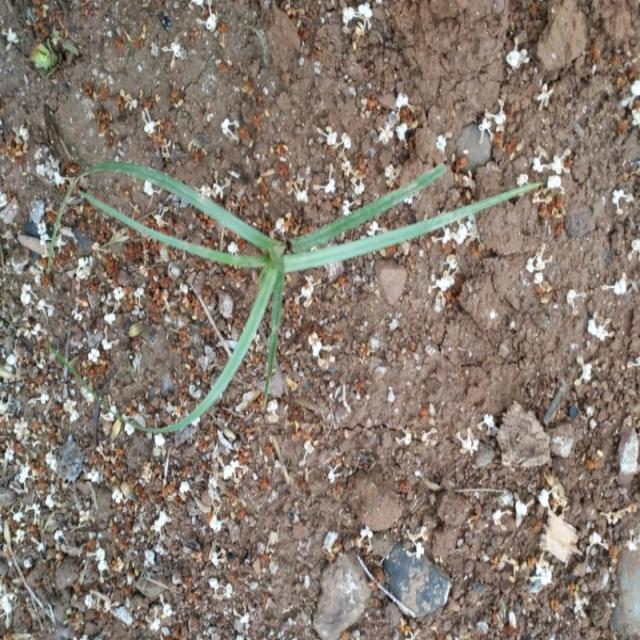sedge: (46, 157, 518, 428)
